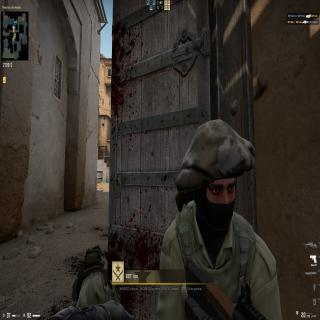CT-Head: (186, 130, 244, 232)
